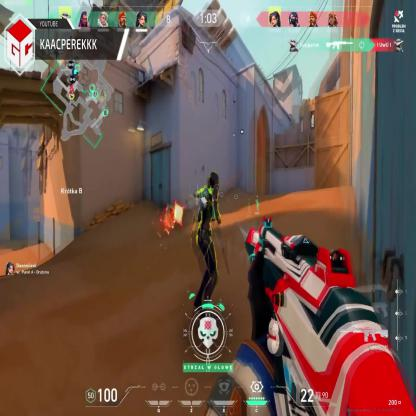enemy: (192, 169, 218, 314)
enemy_head: (209, 171, 219, 191)
